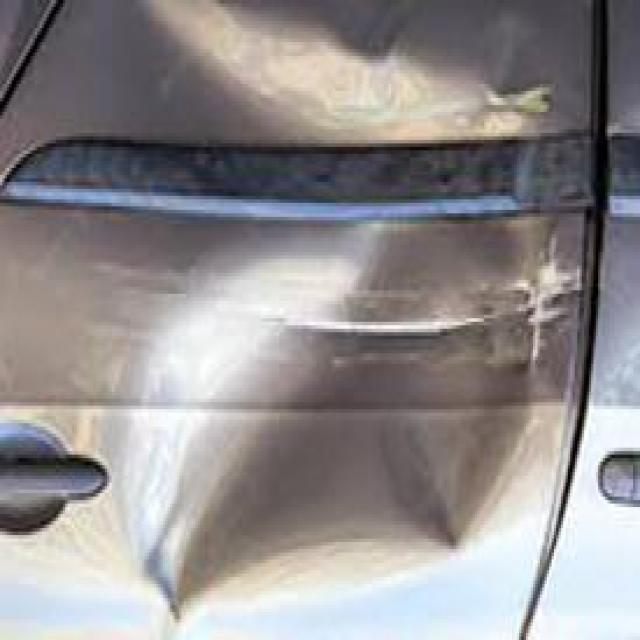dent: (127, 231, 574, 640)
